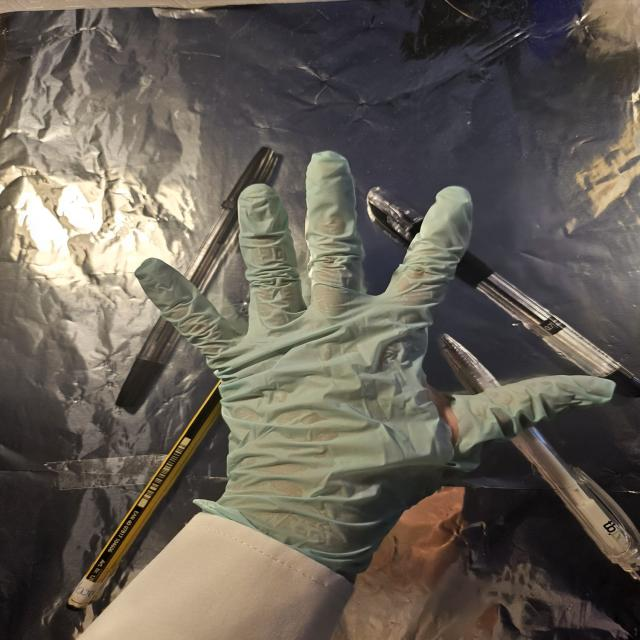gloves_damaged: (135, 144, 627, 588)
